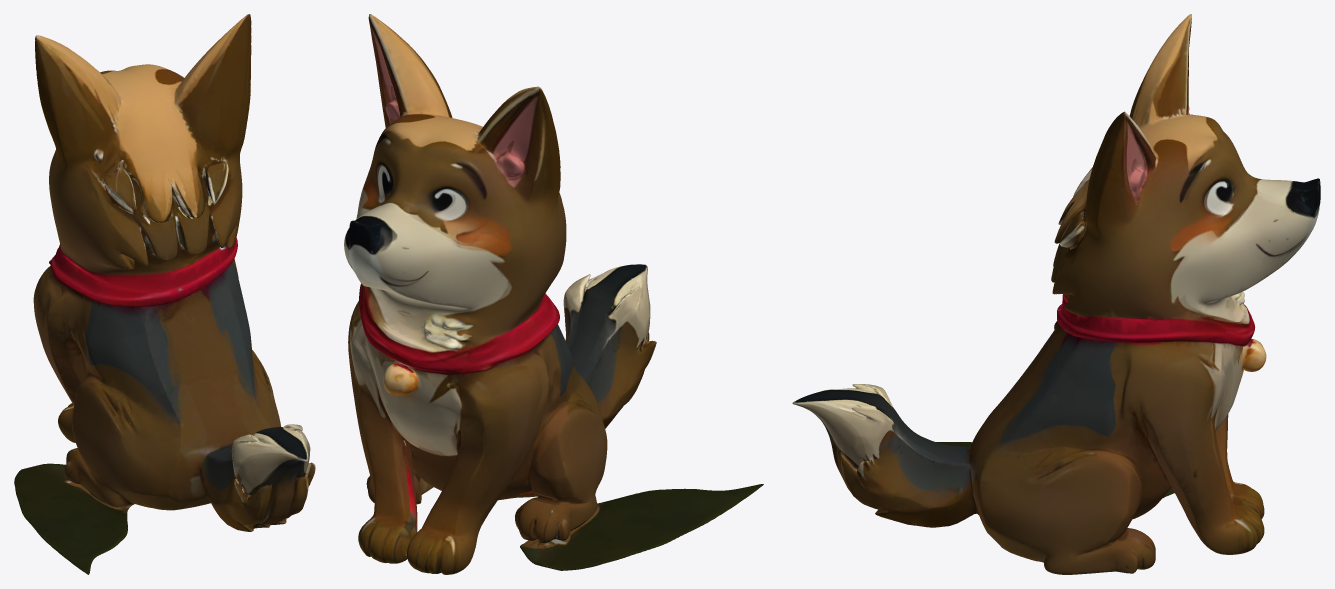
File: 314f97cb-8658-4acc-a73e-7a856d70721a.fbx
3 renders of one model, left to right at view 1: azimuth 30°, elevation 25°; view 2: azimuth 150°, elevation 25°; view 3: azimuth 270°, elevation 25°, orthographic. The views are drawn at different scales.
Parts seen in each view (by area): view 1: tripo_node_a0f58901; view 2: tripo_node_a0f58901; view 3: tripo_node_a0f58901.
Boxes of the visible parts, x1=… form: tripo_node_a0f58901: x1=14, y1=14, x2=315, y2=574; tripo_node_a0f58901: x1=344, y1=14, x2=763, y2=574; tripo_node_a0f58901: x1=792, y1=14, x2=1320, y2=574.
Bounding box in the file's own units: 0.6164 × 0.9839 × 0.9999.
Materials: 1 (1 with a texture image).
